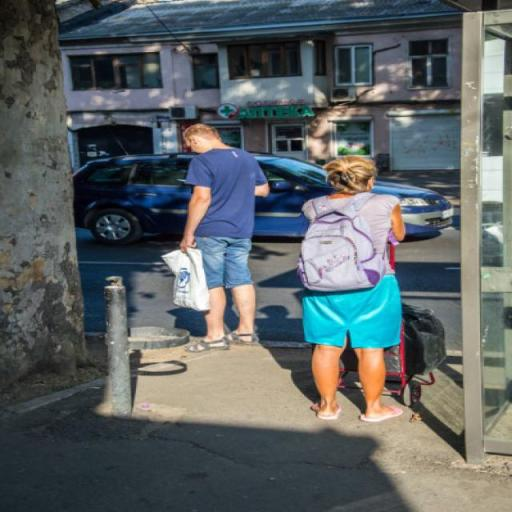person: (299, 156, 409, 425), (167, 127, 268, 352)
